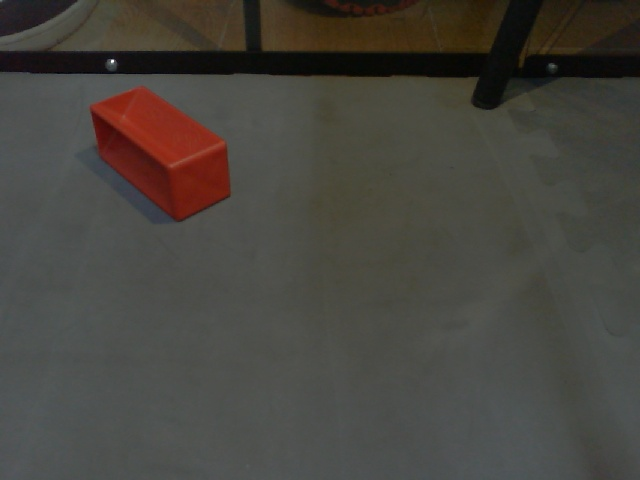RedSample: (89, 78, 236, 230)
